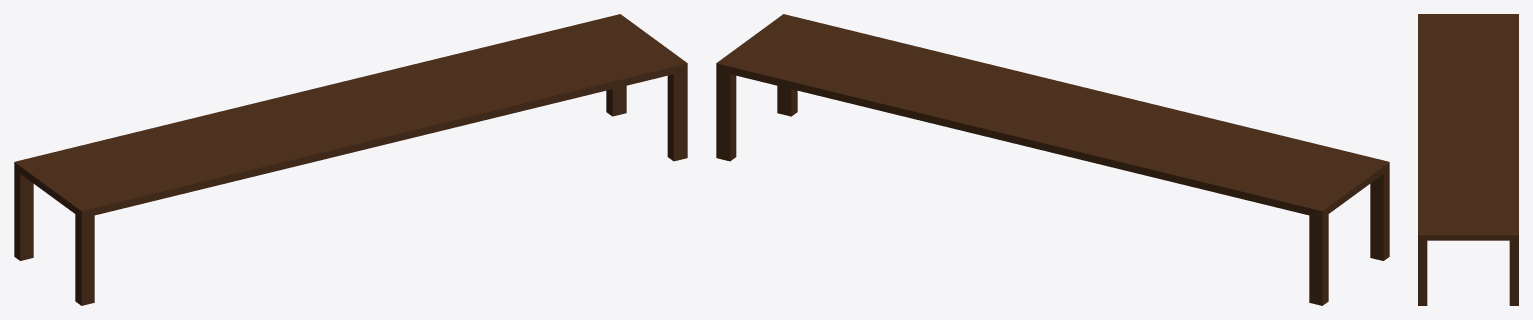
File: table.fbx
3 renders of one model, left to right at view 1: azimuth 30°, elevation 25°; view 2: azimuth 150°, elevation 25°; view 3: azimuth 270°, elevation 25°, orthographic. The views are drawn at different scales.
Visible parts, largest first — view 1: Cube; view 2: Cube; view 3: Cube.
Part boxes in pixels (x1,y1,x2,y2): Cube: [14, 14, 687, 305]; Cube: [716, 14, 1389, 305]; Cube: [1418, 14, 1518, 305].
Bounding box in the file's own units: 1711 × 256 × 330.
